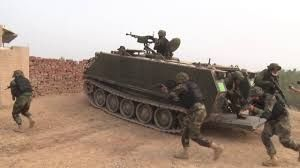gun: (122, 24, 161, 47), (155, 78, 181, 98)
uniform: (165, 68, 224, 153), (257, 79, 296, 157), (4, 69, 40, 129), (249, 61, 279, 113), (220, 65, 247, 119), (155, 27, 178, 66)
